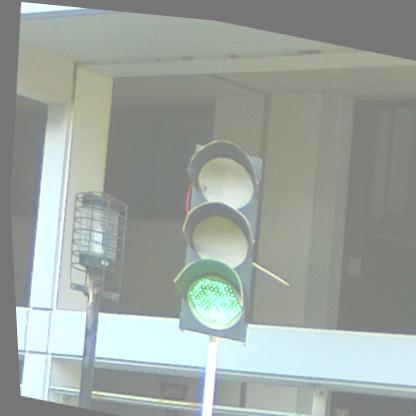green: (158, 127, 272, 343)
